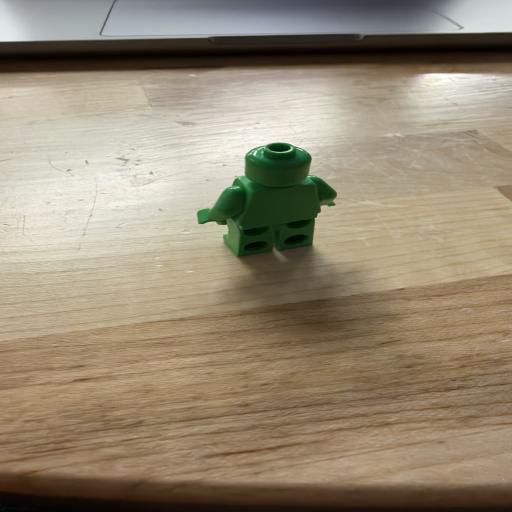green_minifig: (196, 142, 338, 257)
